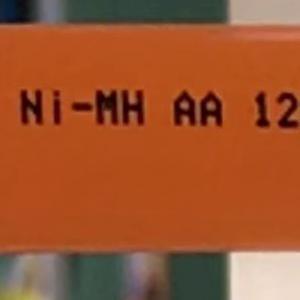NI-MH: (11, 80, 154, 134)
